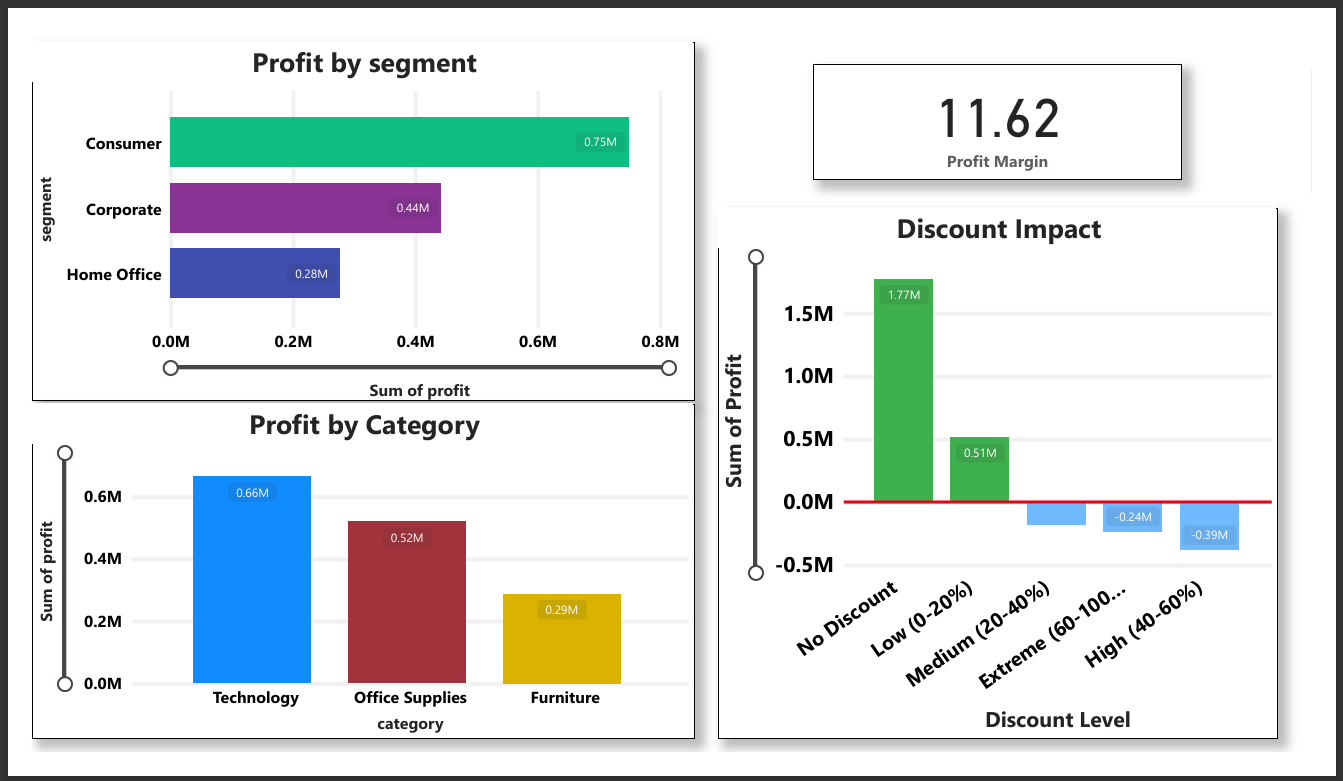

The page's visual inventory and layout, read from the dashboard file:
{"tool":"powerbi","page":{"name":"Profit and Discount impact","canvas":[1280,720],"ordinal":1},"visuals":[{"type":"barChart","title":"Profit by segment","fields":{"Category":["Analysed_super_sales.segment"],"Y":["Sum(Analysed_super_sales.profit)"]},"box":[0,9.6,662.8,359.5],"z":0},{"type":"columnChart","title":"Discount Impact","fields":{"Y":["Sum(Analysed_super_sales.profit)"],"Category":["Analysed_super_sales.discount_level"]},"box":[686.1,175.6,559.9,531],"z":1000},{"type":"clusteredColumnChart","title":"Profit by Category","fields":{"Y":["Sum(Analysed_super_sales.profit)"],"Category":["Analysed_super_sales.category"]},"box":[0,371.9,662.8,334.8],"z":2000},{"type":"card","fields":{"Values":["select","Analysed_super_sales.Profit Margin"]},"box":[780.8,31.6,369.1,116.6],"z":2001}]}

Visuals, with their boxes on the page's 1280x720 design canvas (x1, y1, x2, y2). These are canvas units, not pixel positions in the 1343x781 screenshot, which may show the page scaled, cropped or inside an application window:
"Profit by segment" barChart: [x1=0, y1=10, x2=663, y2=369]
"Discount Impact" columnChart: [x1=686, y1=176, x2=1246, y2=707]
"Profit by Category" clusteredColumnChart: [x1=0, y1=372, x2=663, y2=707]
card - select x Analysed_super_sales.Profit Margin: [x1=781, y1=32, x2=1150, y2=148]
